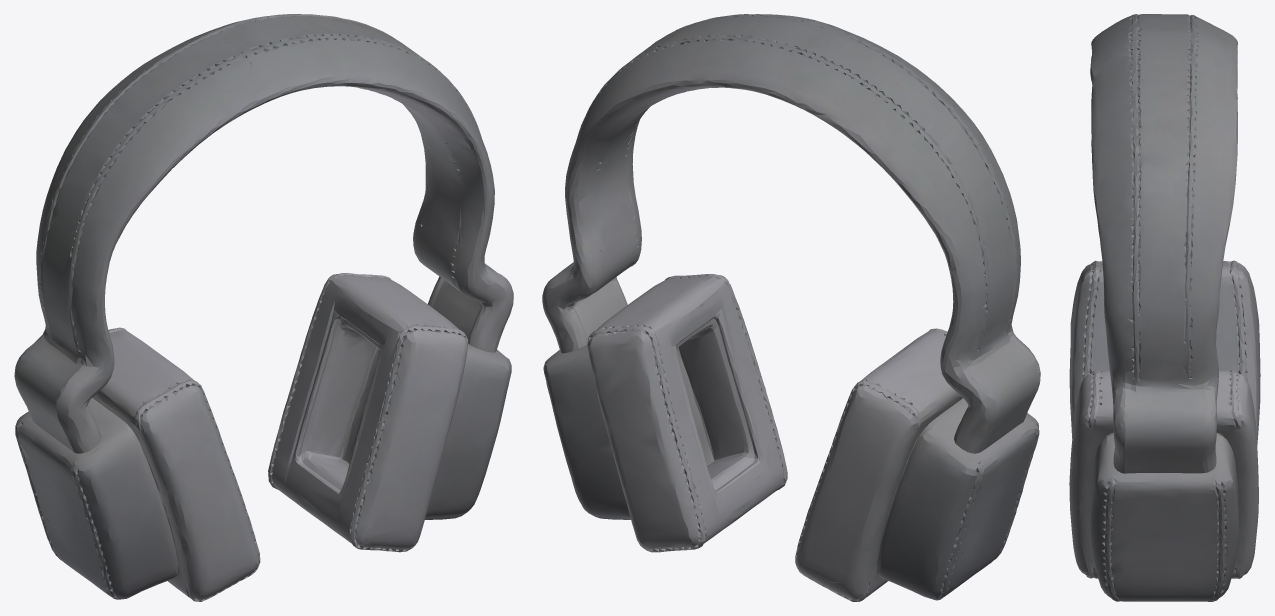
File: headphones.glb
3 views of the same model, side by side, from view 1: azimuth 30°, elevation 25°; view 2: azimuth 150°, elevation 25°; view 3: azimuth 270°, elevation 25° (orthographic). The views are drawn at different scales.
Parts seen in each view (by area): view 1: model; view 2: model; view 3: model.
Boxes of the visible parts, box(x1,y1,x2,y2) form: model: box(14, 14, 513, 601); model: box(542, 14, 1040, 601); model: box(1069, 14, 1260, 601).
Bounding box in the file's own units: 0.9246 × 1 × 0.3522.
Materials: 1 (1 with a texture image).
